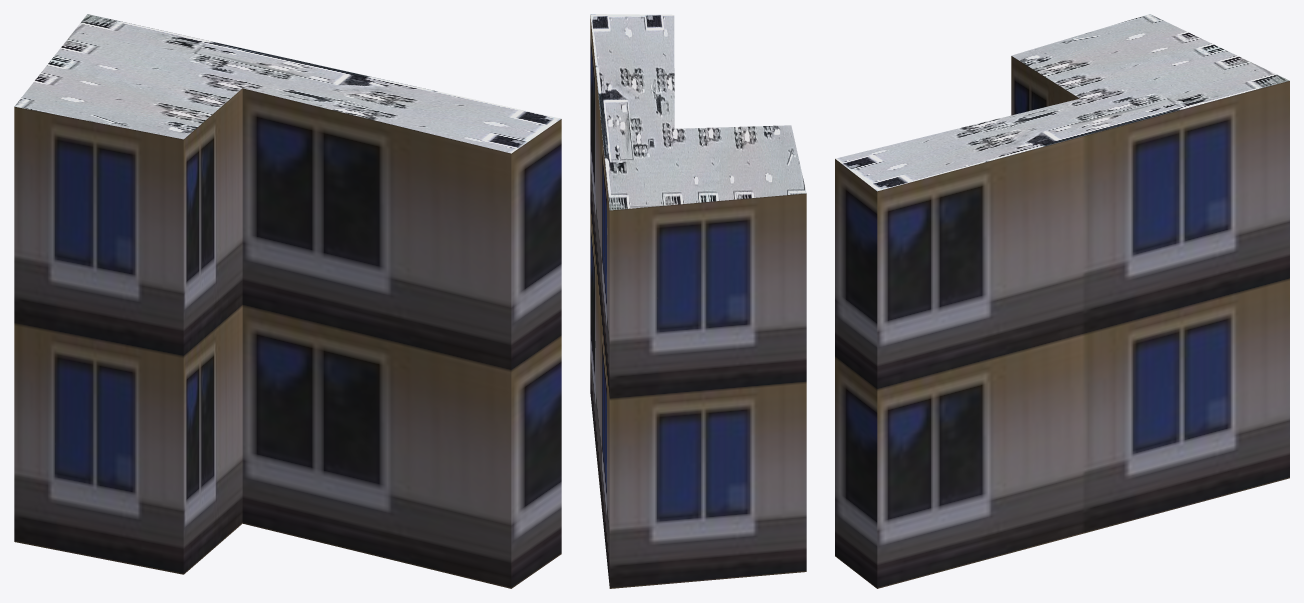
Rendered from ResTex__2.fbx.
The picture shows the model from 3 angles, left to right: view 1: azimuth 30°, elevation 25°; view 2: azimuth 150°, elevation 25°; view 3: azimuth 270°, elevation 25°; orthographic projection. The views are drawn at different scales.
Visible parts, largest first — view 1: CityEngineMaterial_5_m, CityEngineMaterial_4_m; view 2: CityEngineMaterial_5_m, CityEngineMaterial_4_m; view 3: CityEngineMaterial_5_m, CityEngineMaterial_4_m.
Part boxes in pixels (bbox=[...]): CityEngineMaterial_5_m: bbox=[14, 88, 561, 588]; CityEngineMaterial_4_m: bbox=[14, 14, 561, 153]; CityEngineMaterial_5_m: bbox=[590, 15, 806, 588]; CityEngineMaterial_4_m: bbox=[590, 14, 806, 210]; CityEngineMaterial_5_m: bbox=[835, 56, 1289, 588]; CityEngineMaterial_4_m: bbox=[835, 14, 1289, 191].
Size of the model in its own units: 5.74 by 6 by 6.22.
2 materials, 2 textured.
